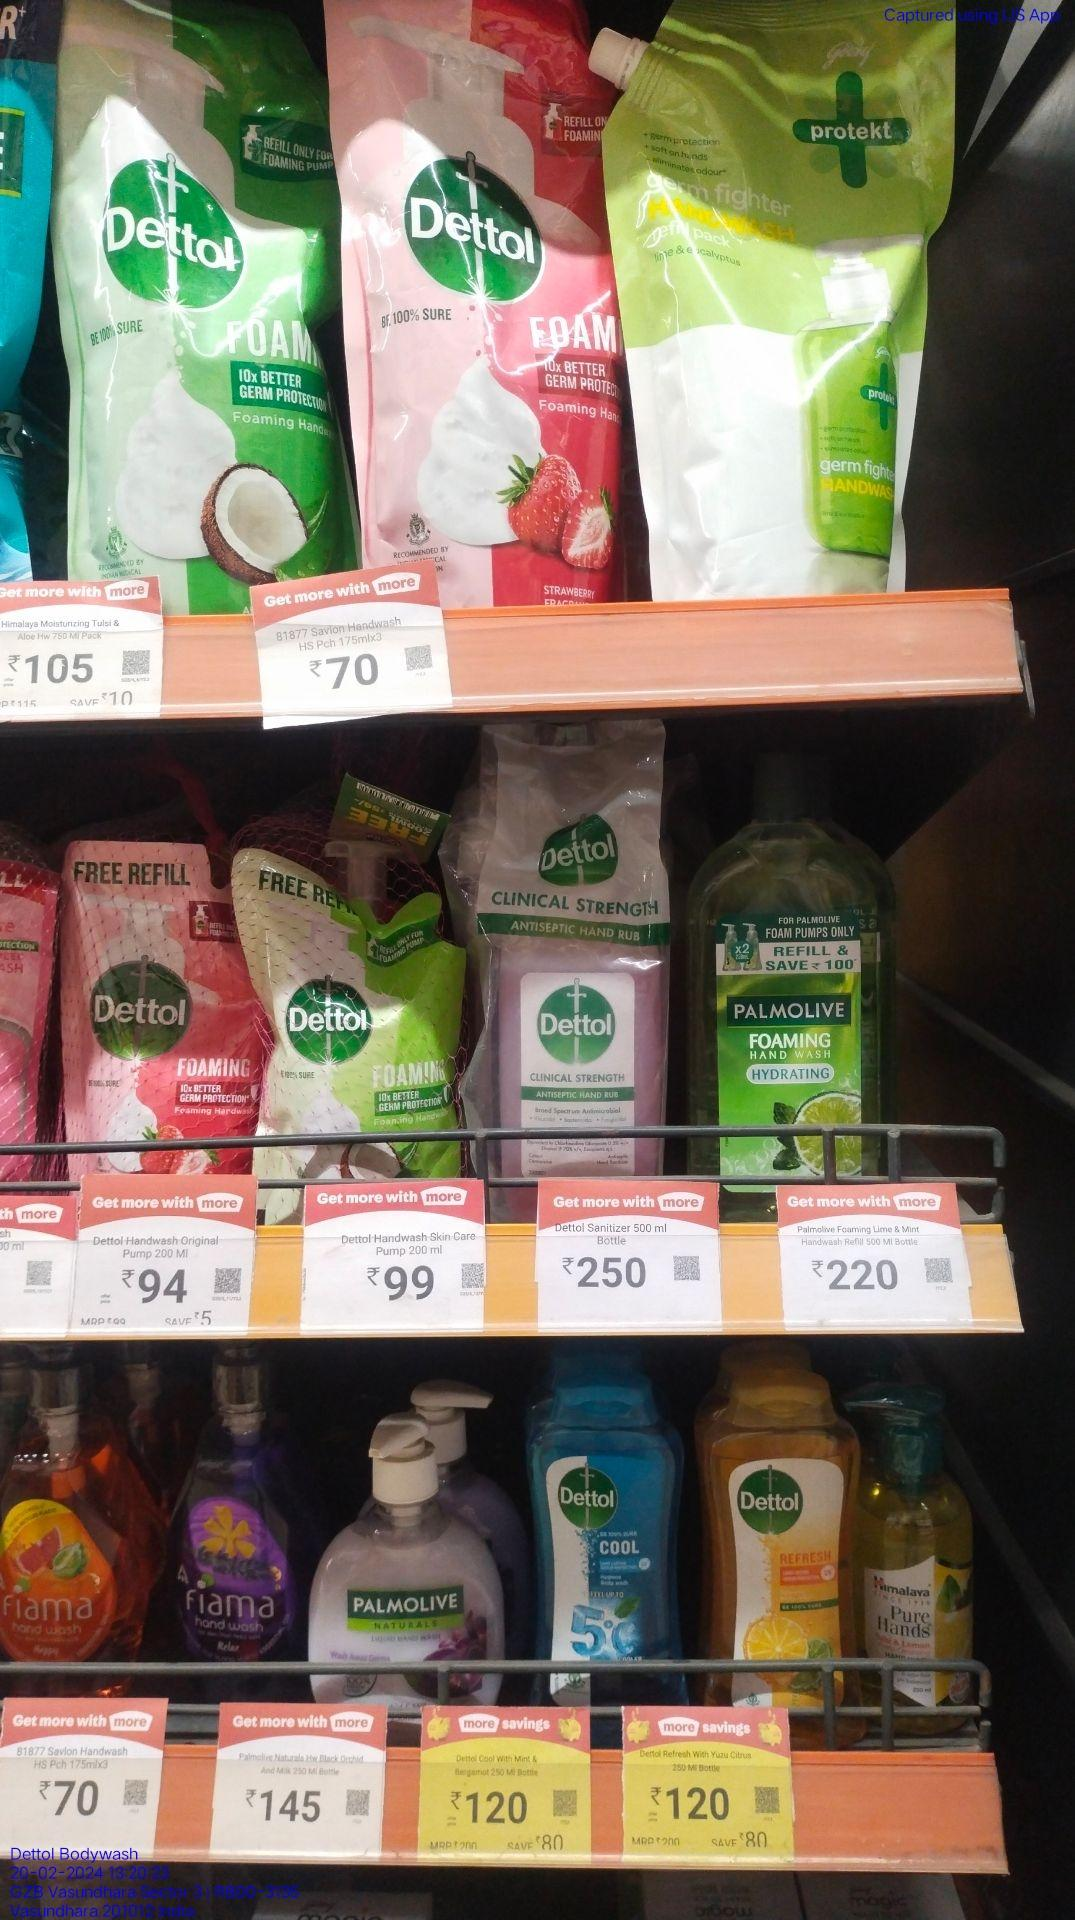Dettol_Bodywash_Cool: (529, 1369, 685, 1702)
Dettol_Bodywash_Refresh: (700, 1356, 861, 1713)
